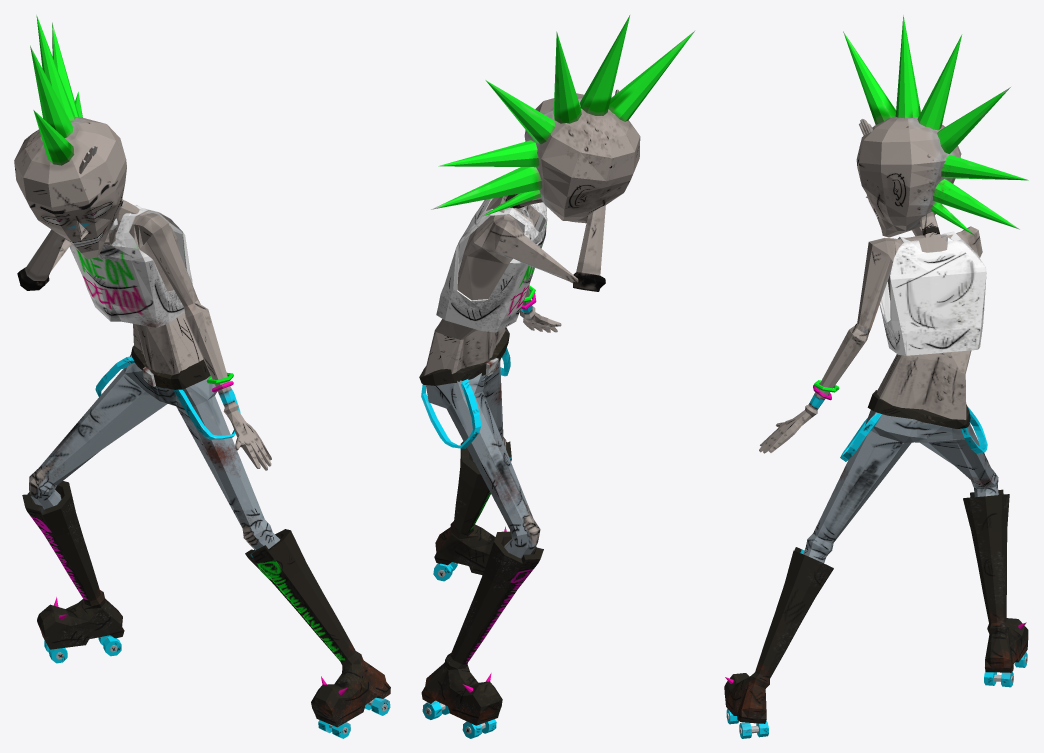
Rendered from punkAnimation_000044.obj.
3 views of the same model, side by side, from view 1: azimuth 30°, elevation 25°; view 2: azimuth 150°, elevation 25°; view 3: azimuth 270°, elevation 25° (orthographic). The views are drawn at different scales.
Parts seen in each view (by area): view 1: Cube.004_Cube.003; view 2: Cube.004_Cube.003; view 3: Cube.004_Cube.003.
Part boxes in pixels (bbox=[...]): Cube.004_Cube.003: bbox=[14, 15, 390, 738]; Cube.004_Cube.003: bbox=[419, 15, 694, 738]; Cube.004_Cube.003: bbox=[724, 15, 1028, 738].
Bounding box in the file's own units: 3.14 × 6.72 × 3.03.
